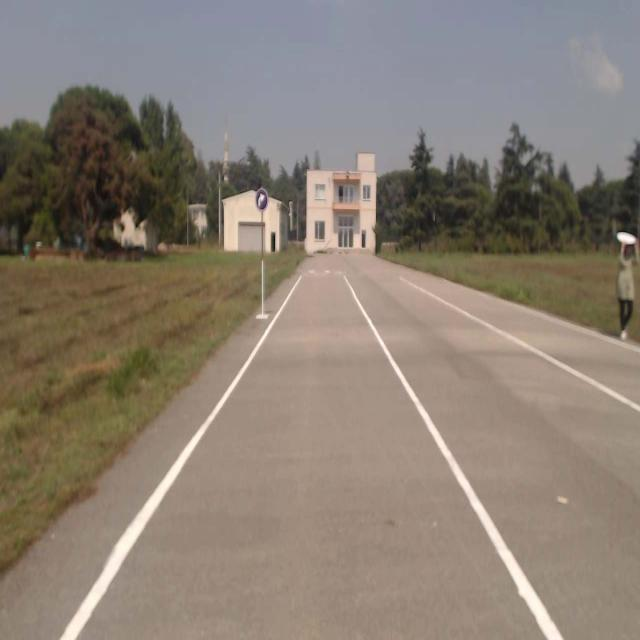sag: (256, 186, 268, 212)
